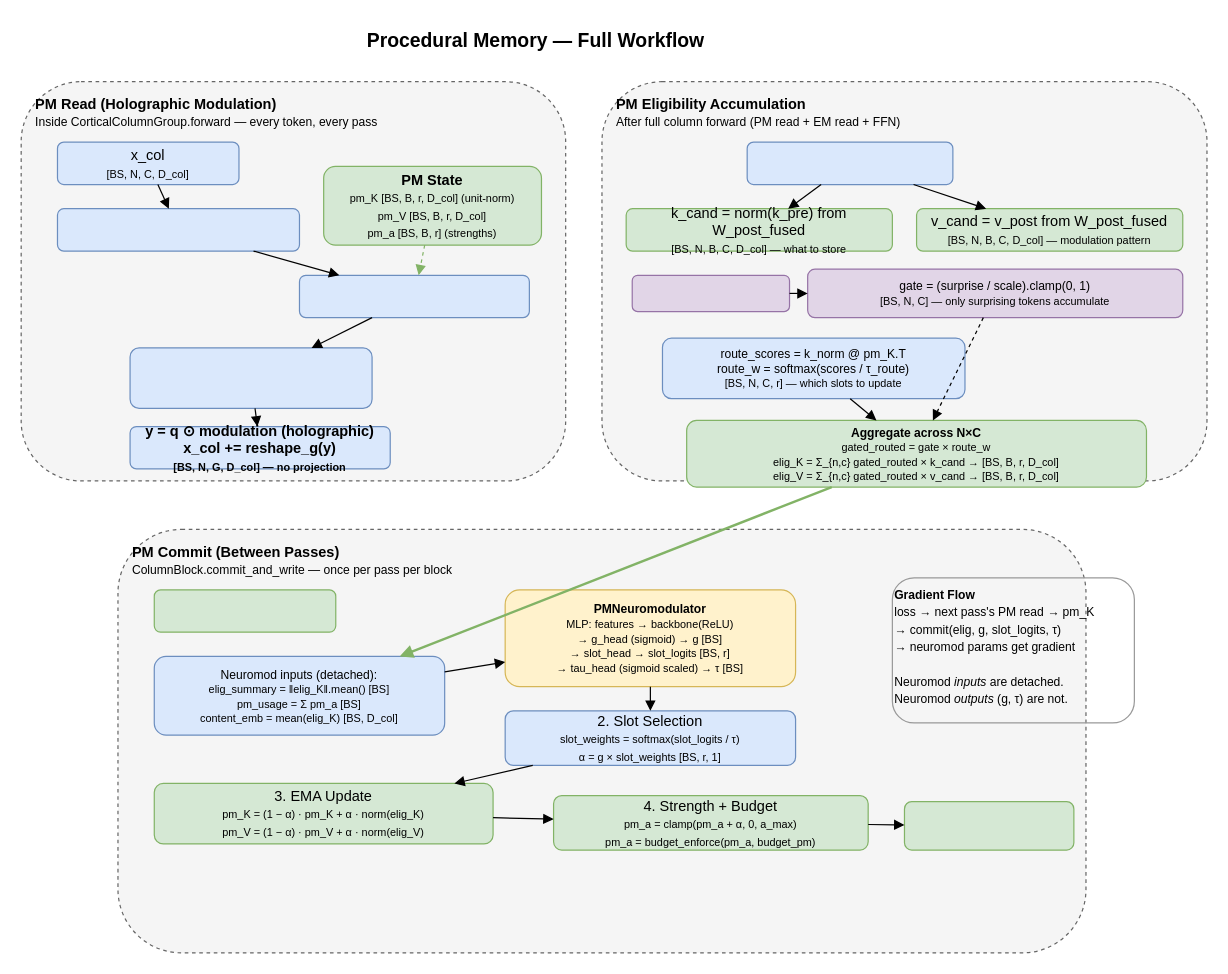
Some shapes in this 1228 by 974 pixel diagram are drawn without their labels. The centre of each missing label's shape, as x and y in pixels:
"1. Base Decay pm_a *= decay_pm" goes at (x=244, y=610).
"q = view_5d(x_col) [BS, N, B, C, D_col] — free view" goes at (x=177, y=229).
"scores = norm(q) @ pm_K.T [BS, N, C, r]" goes at (x=413, y=296).
"surprise (from PCM)" goes at (x=710, y=293).
"Updated PM State Available for next pass's read" goes at (x=988, y=825).
"weighted = scores × pm_a modulation = weighted @ pm_V [BS, N, B, C, D_col]" goes at (x=250, y=377).
"x_out (column output) [BS, N, C, D_col]" goes at (x=849, y=163).
